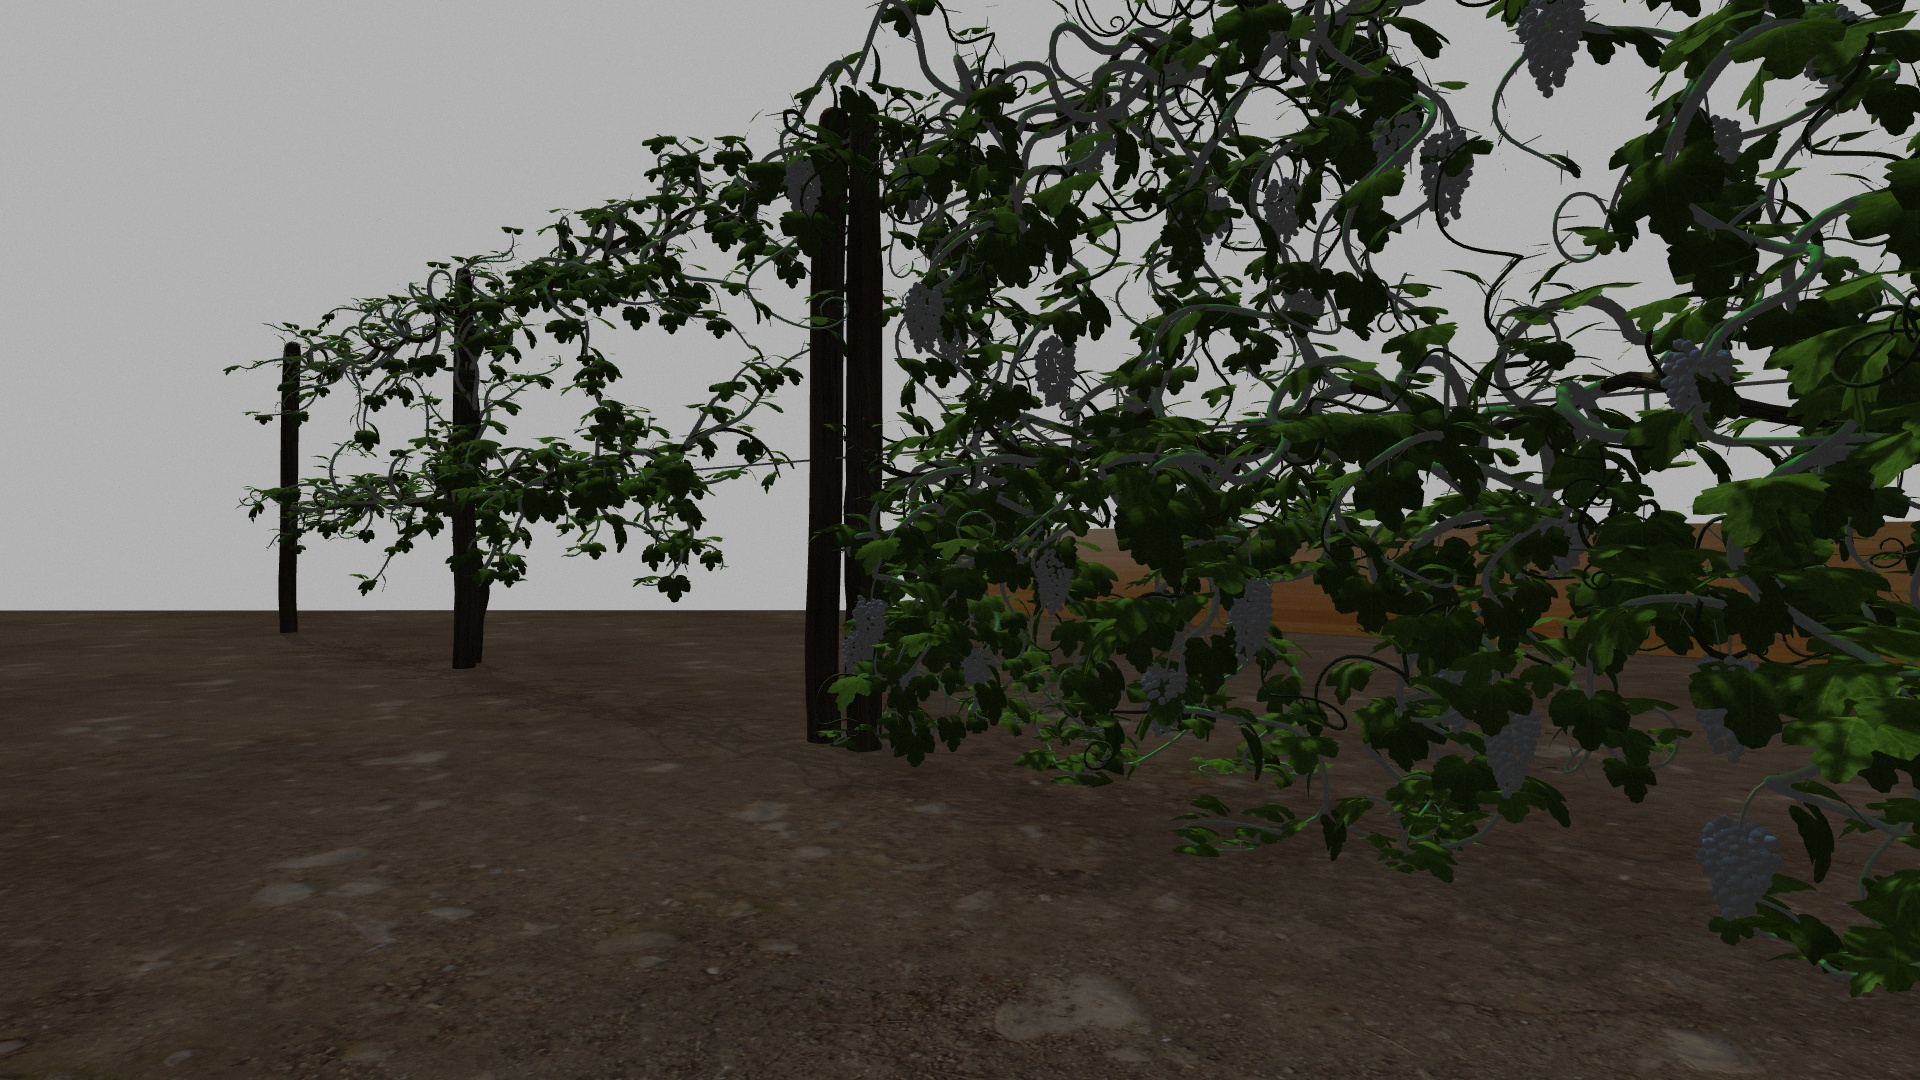grape: (1698, 815, 1784, 920), (1660, 336, 1737, 435), (1518, 5, 1585, 98), (1481, 704, 1543, 800), (1419, 131, 1474, 227), (1228, 579, 1275, 659), (1033, 335, 1077, 407), (1369, 108, 1418, 171), (1262, 178, 1307, 245), (903, 285, 945, 355), (1033, 549, 1075, 615), (785, 156, 824, 216), (1142, 662, 1189, 707), (852, 597, 887, 647), (843, 638, 876, 675), (961, 651, 997, 684)
